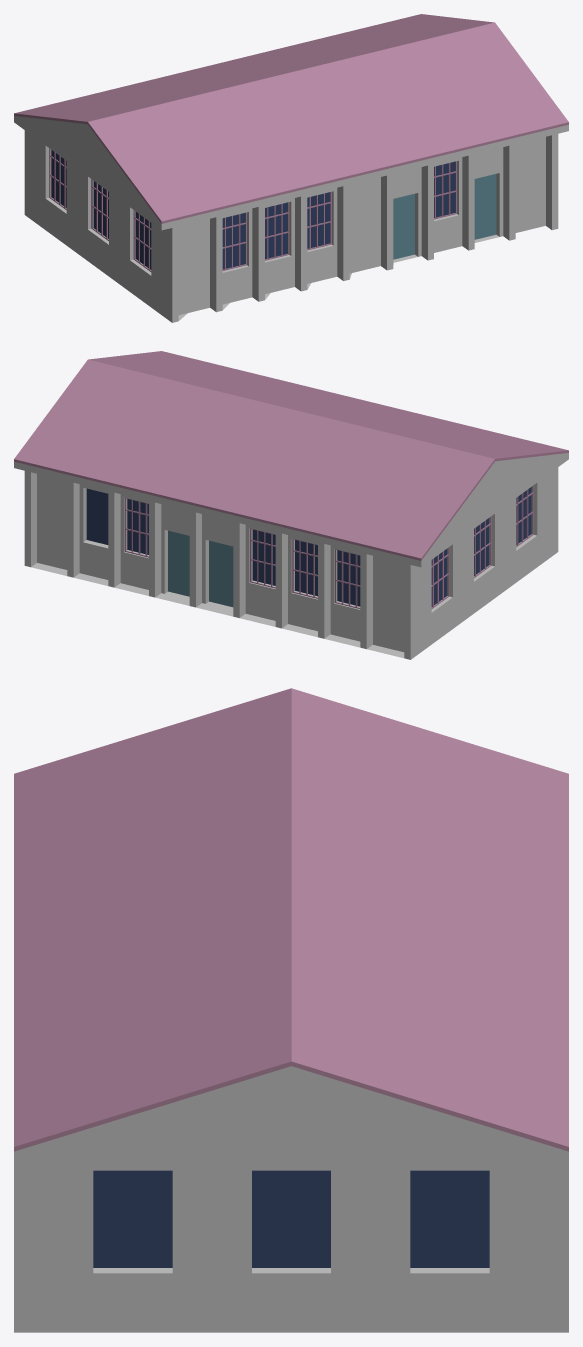
Rendered from Building_s4.fbx.
The picture shows the model from 3 angles, top to bottom: view 1: azimuth 30°, elevation 25°; view 2: azimuth 150°, elevation 25°; view 3: azimuth 270°, elevation 25°; orthographic projection. The views are drawn at different scales.
Visible parts, largest first — view 1: Building_s4; view 2: Building_s4; view 3: Building_s4.
Boxes of the visible parts, <box> form: Building_s4: <box>14,14,568,322</box>; Building_s4: <box>14,351,568,659</box>; Building_s4: <box>14,688,568,1332</box>.
Bounding box in the file's own units: 21.84 × 7.66 × 13.72.
